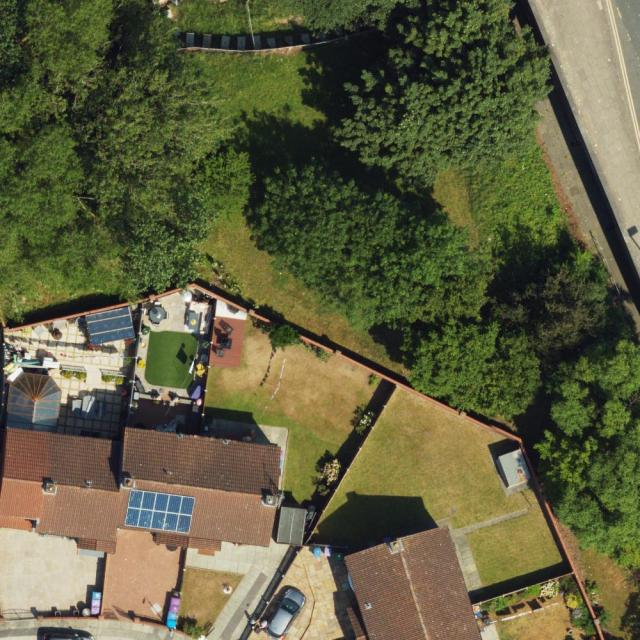roof: (0, 373, 281, 555), (343, 524, 482, 640)
skylight: (6, 373, 60, 435)
solar: (125, 490, 193, 536)
